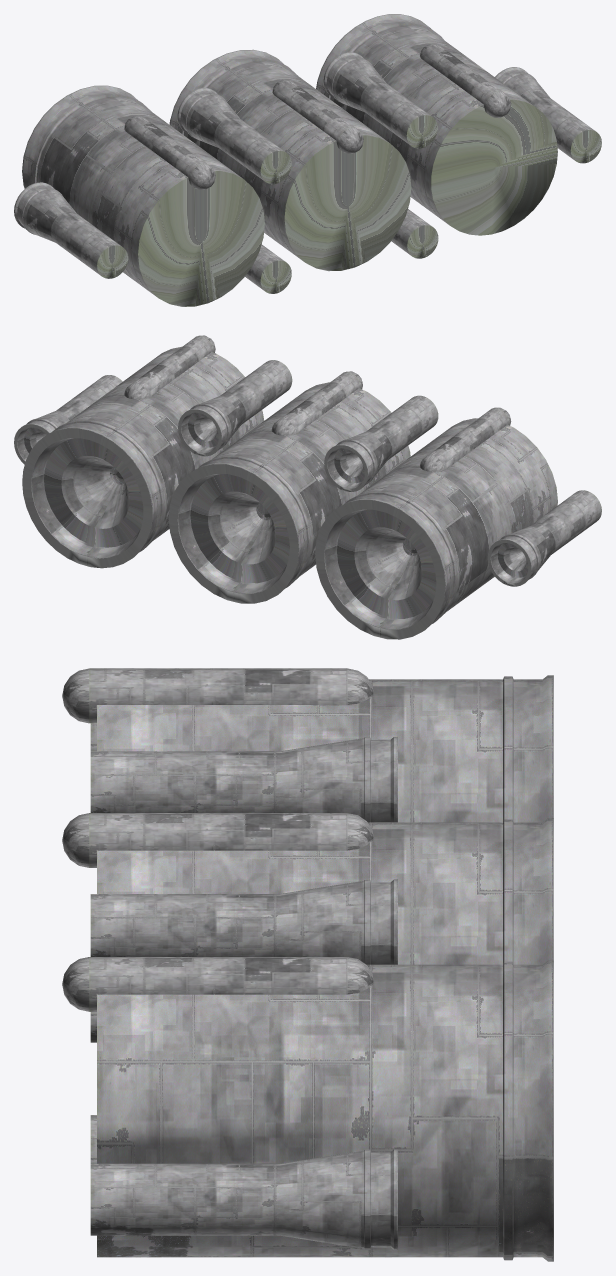
File: motores.fbx
The picture shows the model from 3 angles, top to bottom: view 1: azimuth 30°, elevation 25°; view 2: azimuth 150°, elevation 25°; view 3: azimuth 270°, elevation 25°; orthographic projection. The views are drawn at different scales.
Visible parts, largest first — view 1: motores; view 2: motores; view 3: motores.
Part boxes in pixels (x1,y1,x2,y2): motores: (14,14,601,306); motores: (14,335,601,639); motores: (62,668,553,1261).
Size of the model in its own units: 184 by 53.02 by 75.77.
